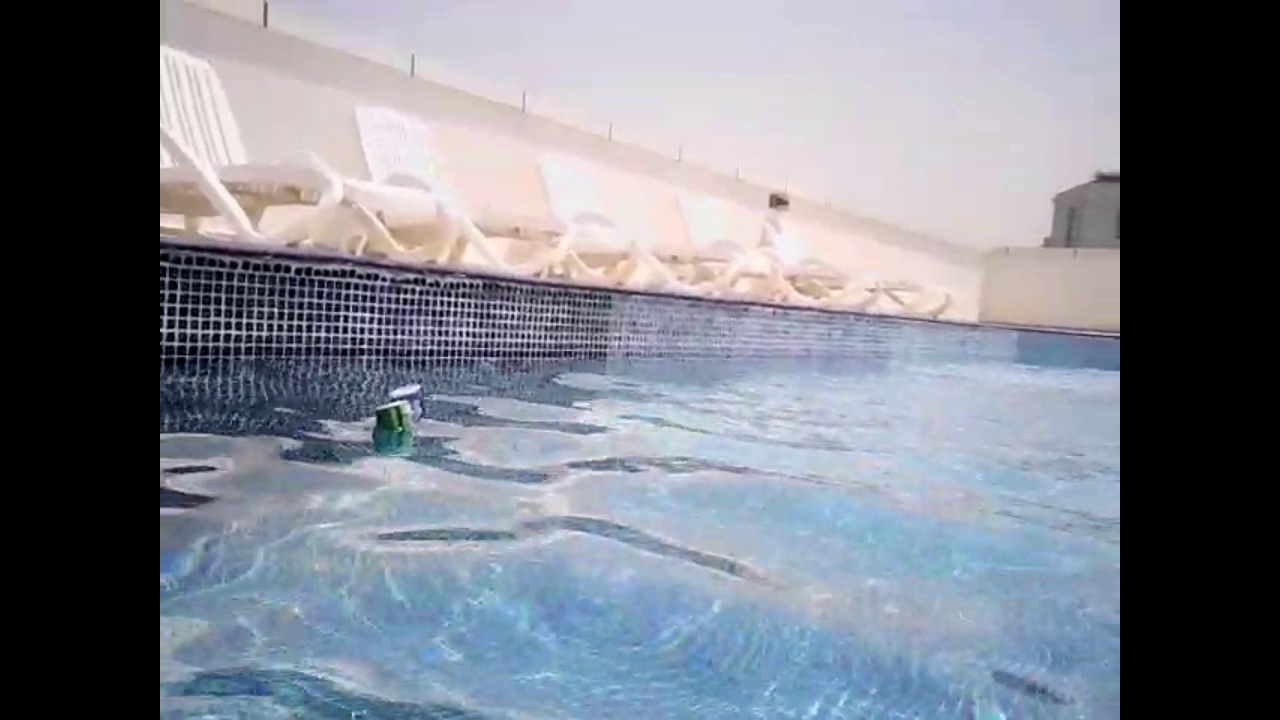debris: (370, 399, 422, 448), (386, 379, 430, 432)
